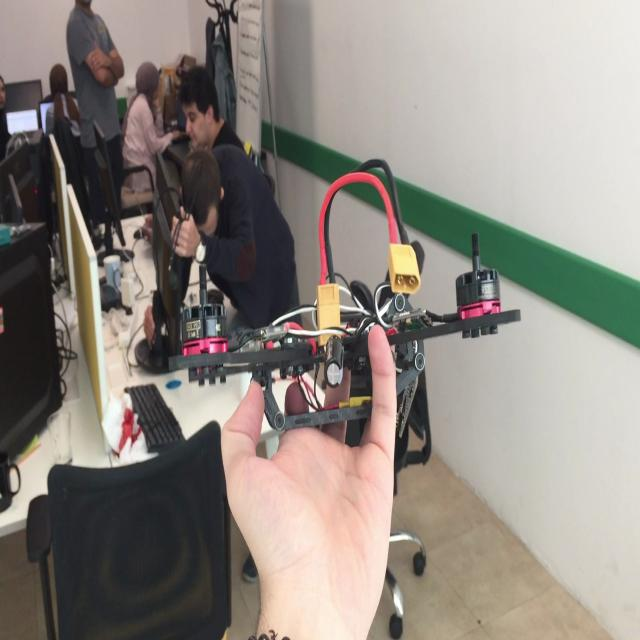drone: (137, 224, 554, 446)
